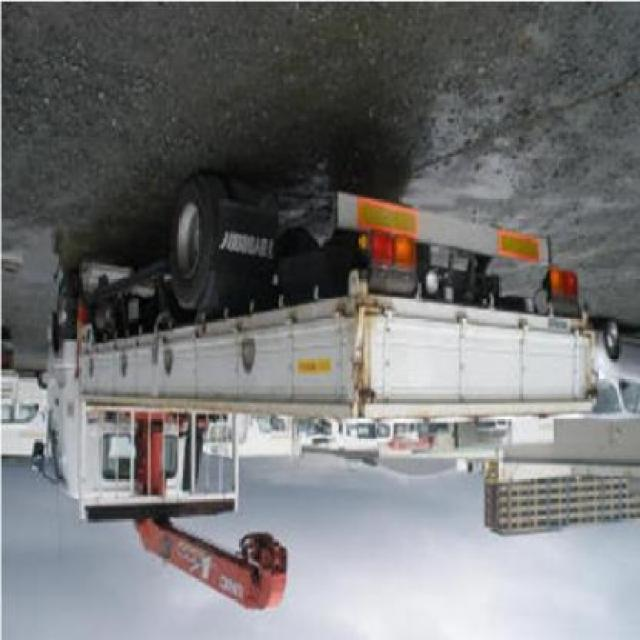truck: (33, 180, 596, 616)
